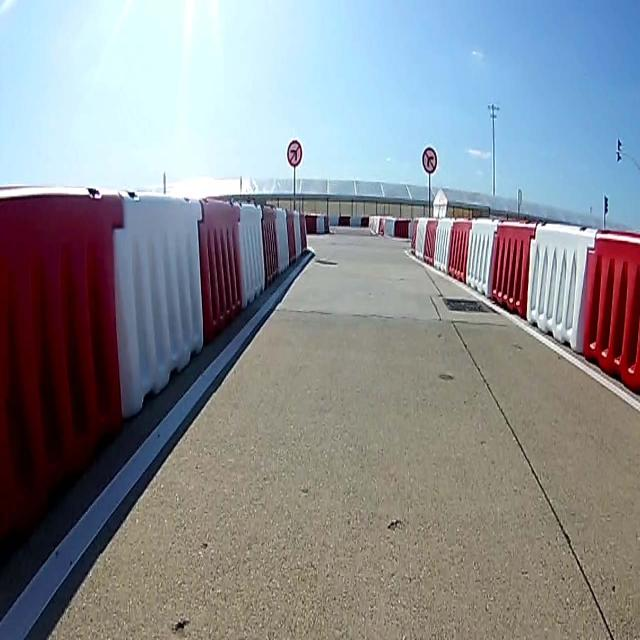sagadonulmez: (421, 147, 438, 174)
soladonulmez: (287, 139, 303, 169)
